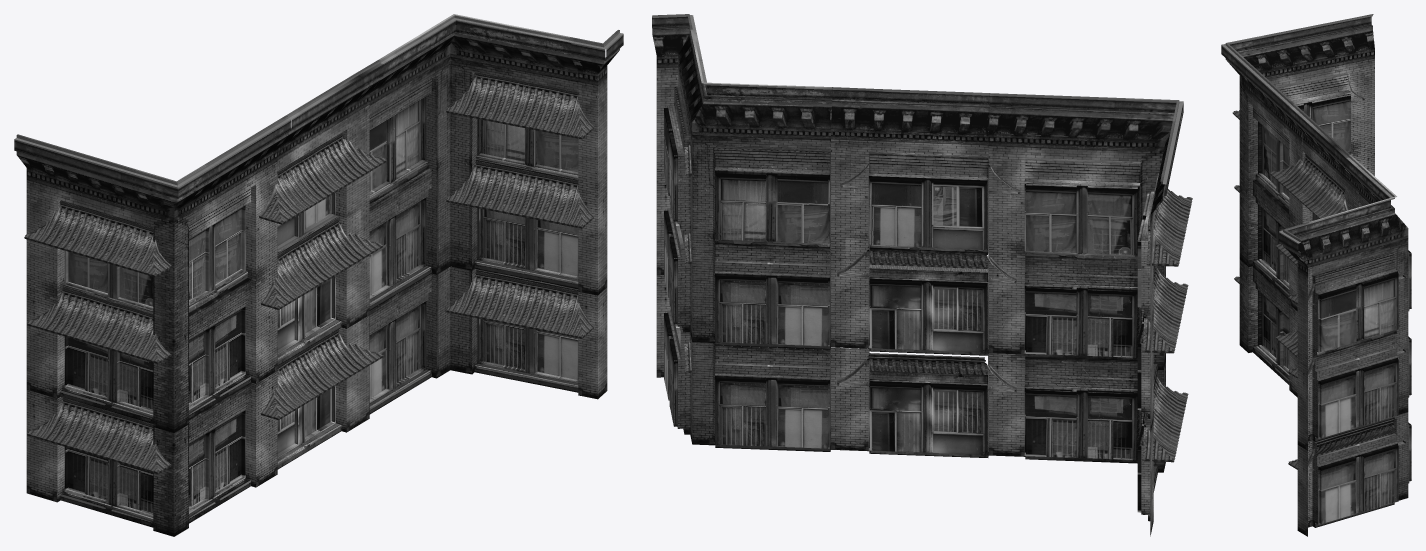
The model's file is chinatown_building_7.fbx.
The picture shows the model from 3 angles, left to right: view 1: azimuth 30°, elevation 25°; view 2: azimuth 150°, elevation 25°; view 3: azimuth 270°, elevation 25°; orthographic projection. The views are drawn at different scales.
Visible parts, largest first — view 1: chinatown_building_7; view 2: chinatown_building_7; view 3: chinatown_building_7.
Boxes of the visible parts, x1=… form: chinatown_building_7: x1=14, y1=14, x2=623, y2=536; chinatown_building_7: x1=652, y1=14, x2=1192, y2=536; chinatown_building_7: x1=1221, y1=14, x2=1411, y2=536.
Size of the model in its own units: 1800 by 1099 by 632.
